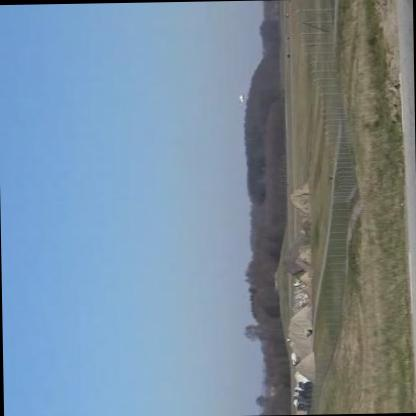plane: (236, 90, 246, 102)
